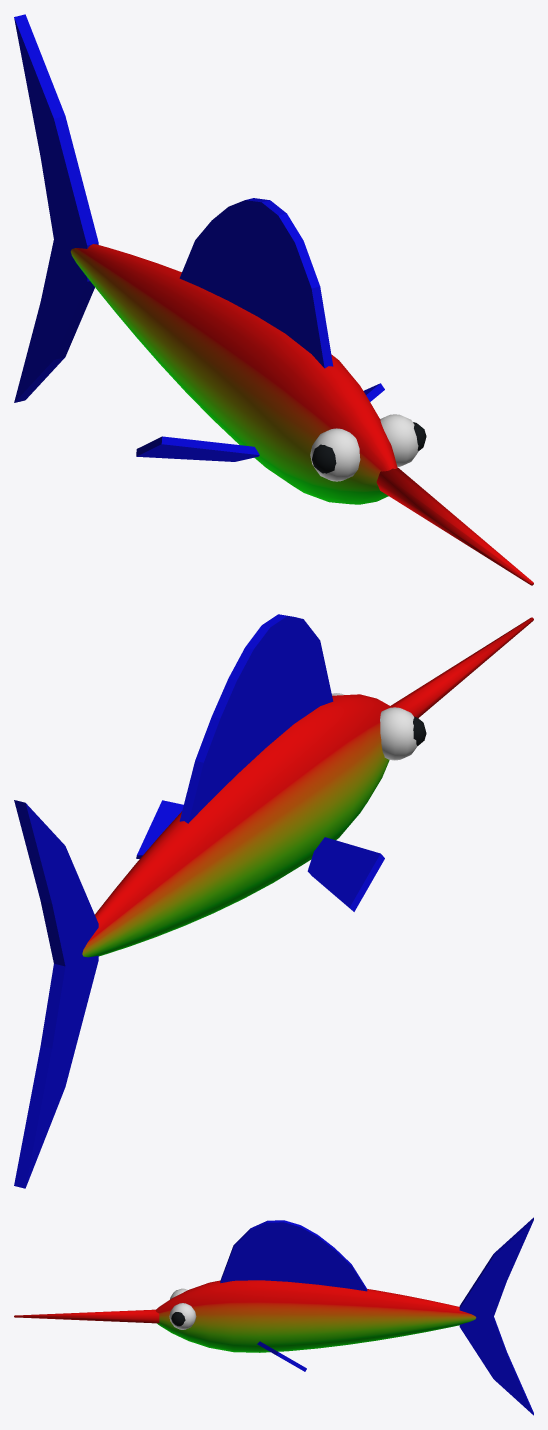
Rendered from fish_sword.glb.
3 renders of one model, top to bottom at view 1: azimuth 30°, elevation 25°; view 2: azimuth 150°, elevation 25°; view 3: azimuth 270°, elevation 25°, orthographic. The views are drawn at different scales.
Parts seen in each view (by area): view 1: Body, Eye; view 2: Body, Eye; view 3: Body, Eye.
Boxes of the visible parts, left/top/right/bottom form: Body: left=14, top=14, right=533, bottom=585; Eye: left=310, top=414, right=426, bottom=481; Body: left=14, top=614, right=533, bottom=1188; Eye: left=332, top=693, right=426, bottom=760; Body: left=14, top=1217, right=533, bottom=1415; Eye: left=169, top=1288, right=196, bottom=1329.
Bounding box in the file's own units: 0.3877 × 0.64 × 1.54.
